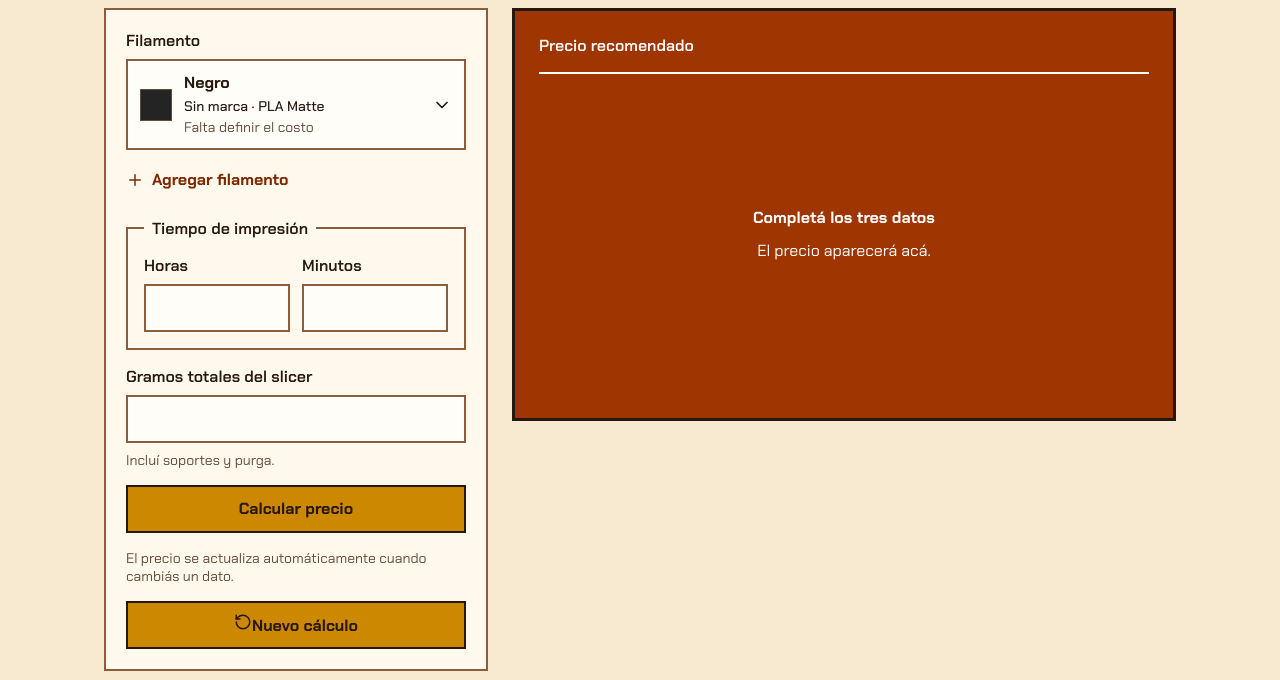
estados de la cotización rápida › prioriza precio, costo, ganancia y margen cuando el precio es utilizable
The width and height of the screenshot is (1280, 680).
expect the button with aria-label "Filamento" shows "PLA Matte": met, box [126,59,466,150]
Type "5" into the number field named "Horas de impresión" at (217, 308), box [144,284,290,332]
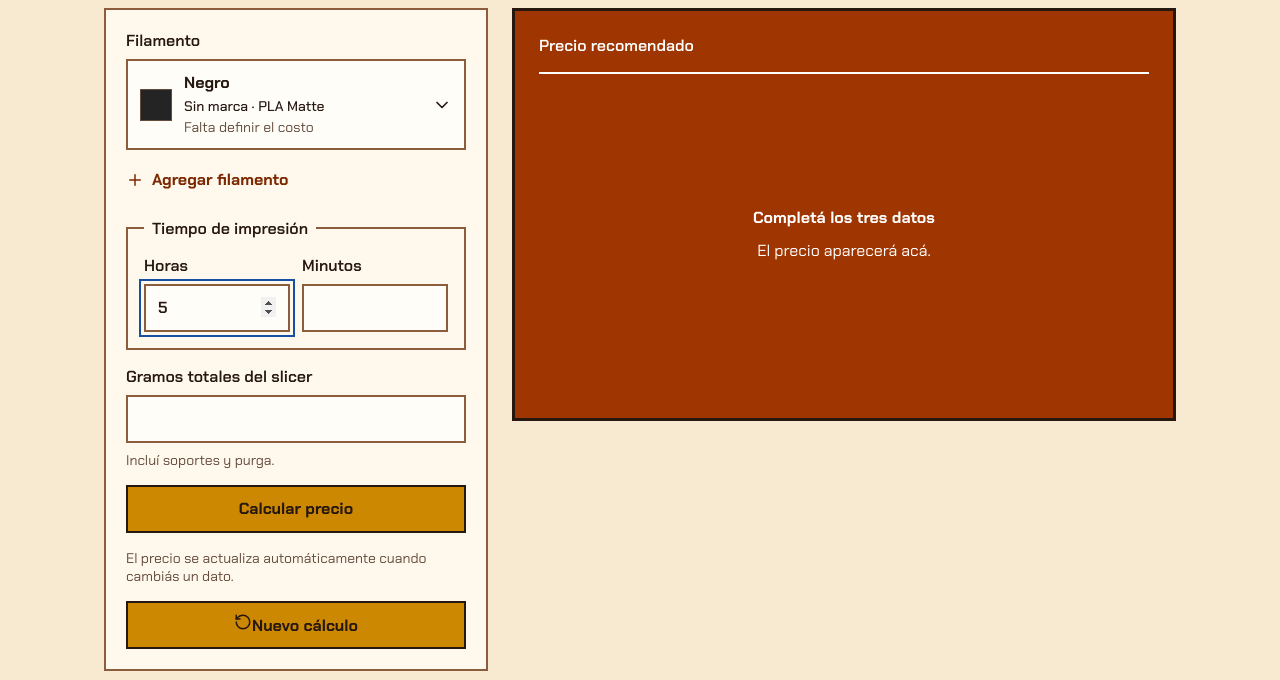
Type "24" into the number field named "Minutos de impresión" at (375, 308), box [302,284,448,332]
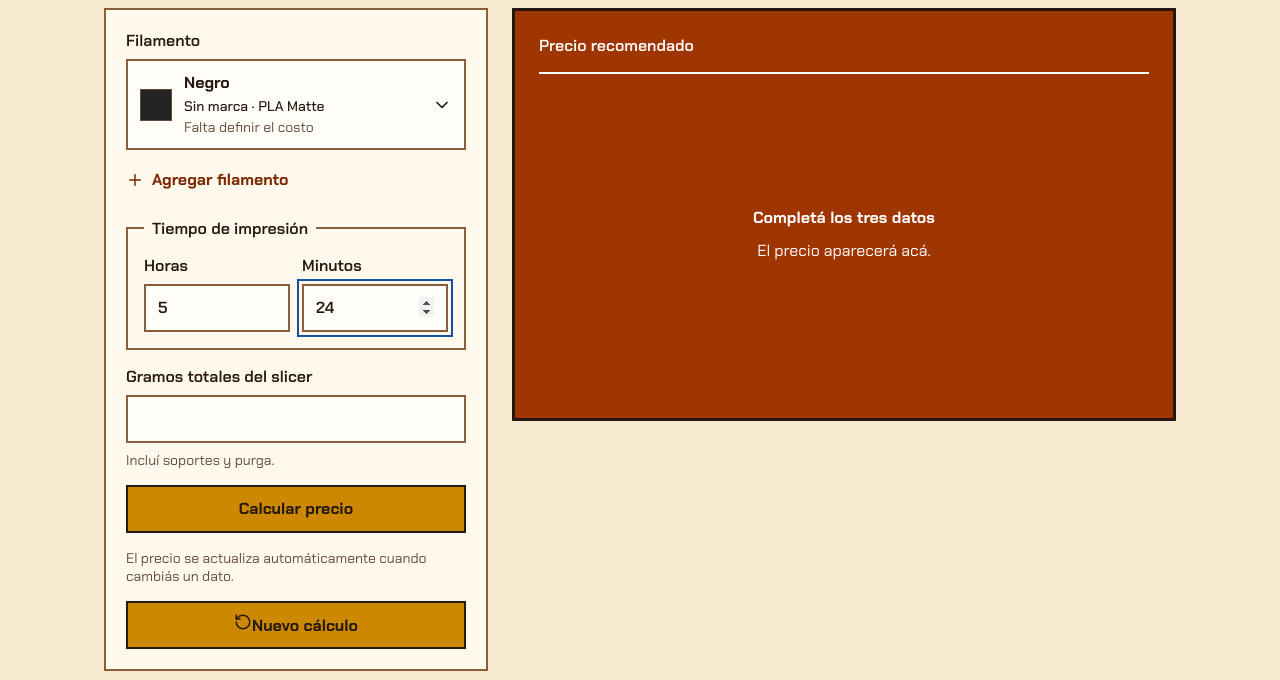
Type "142" into the number field labelled "Gramos totales del slicer" at (296, 419), box [126,395,466,443]
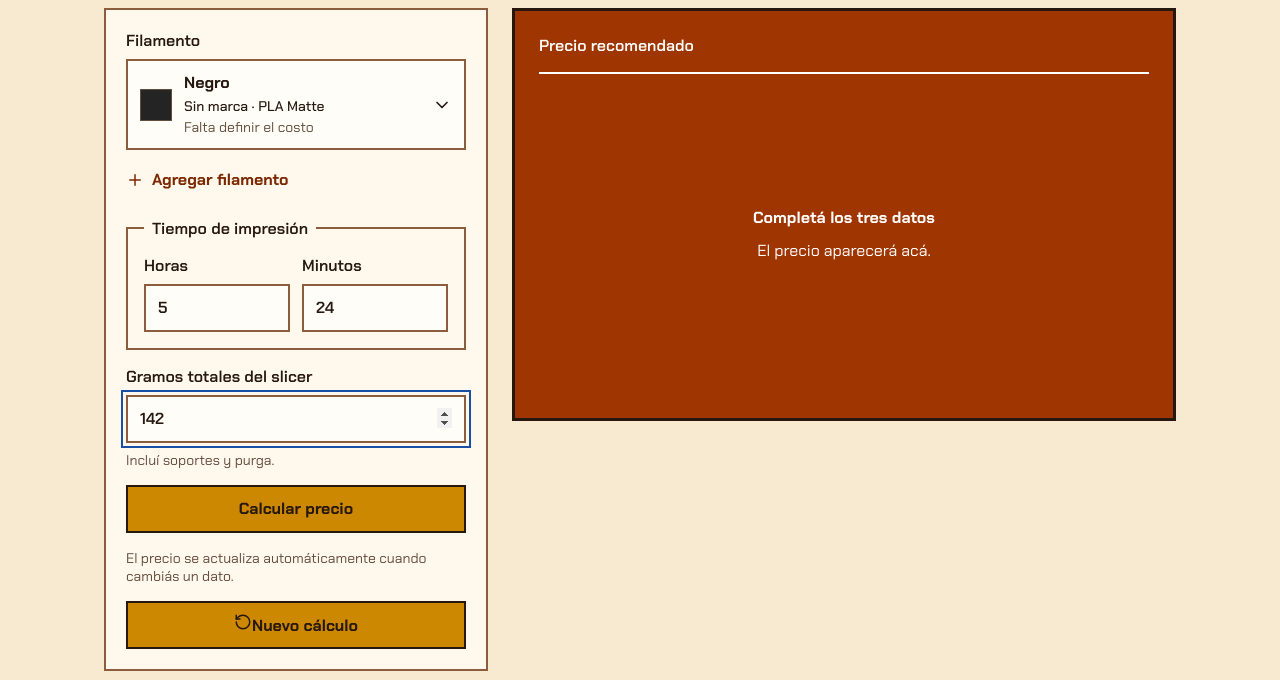
Click the button "Calcular precio" at (296, 509), box [126,485,466,533]
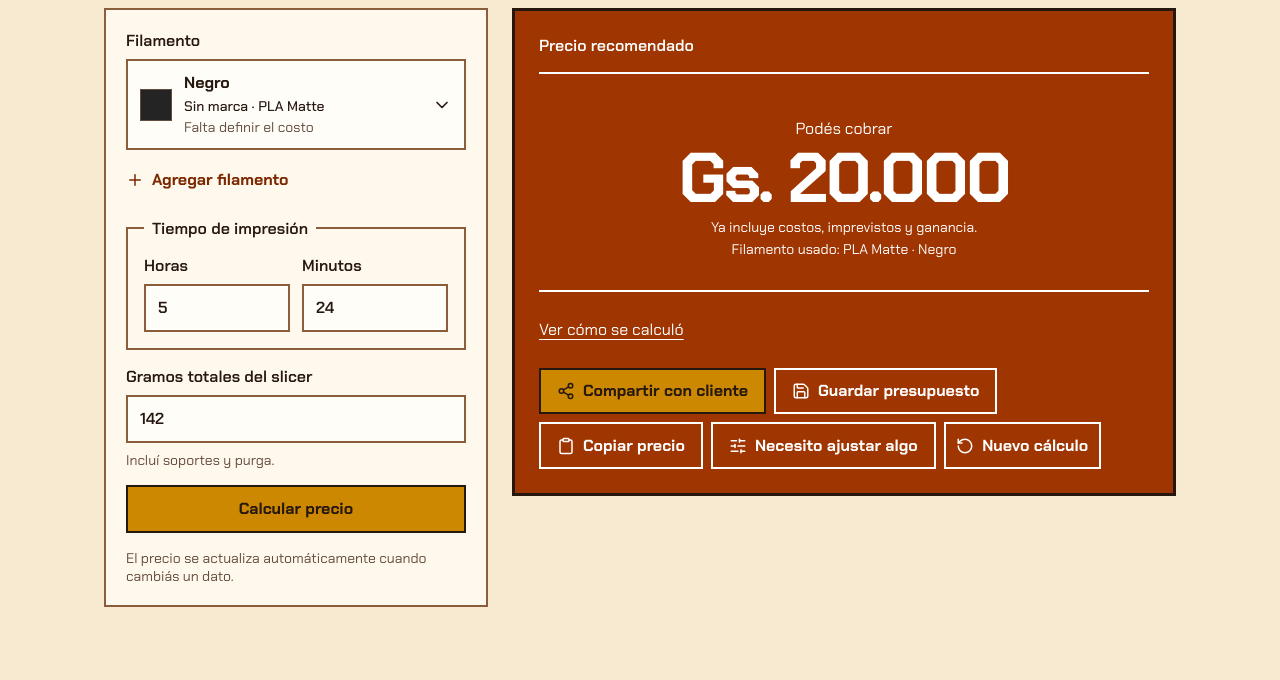
expect the text "Podés cobrar" is shown: met, box [796,118,892,139]
Click the heading "Ver cómo se calculó" at (611, 330), box [539,319,684,340]
(page scrolled)
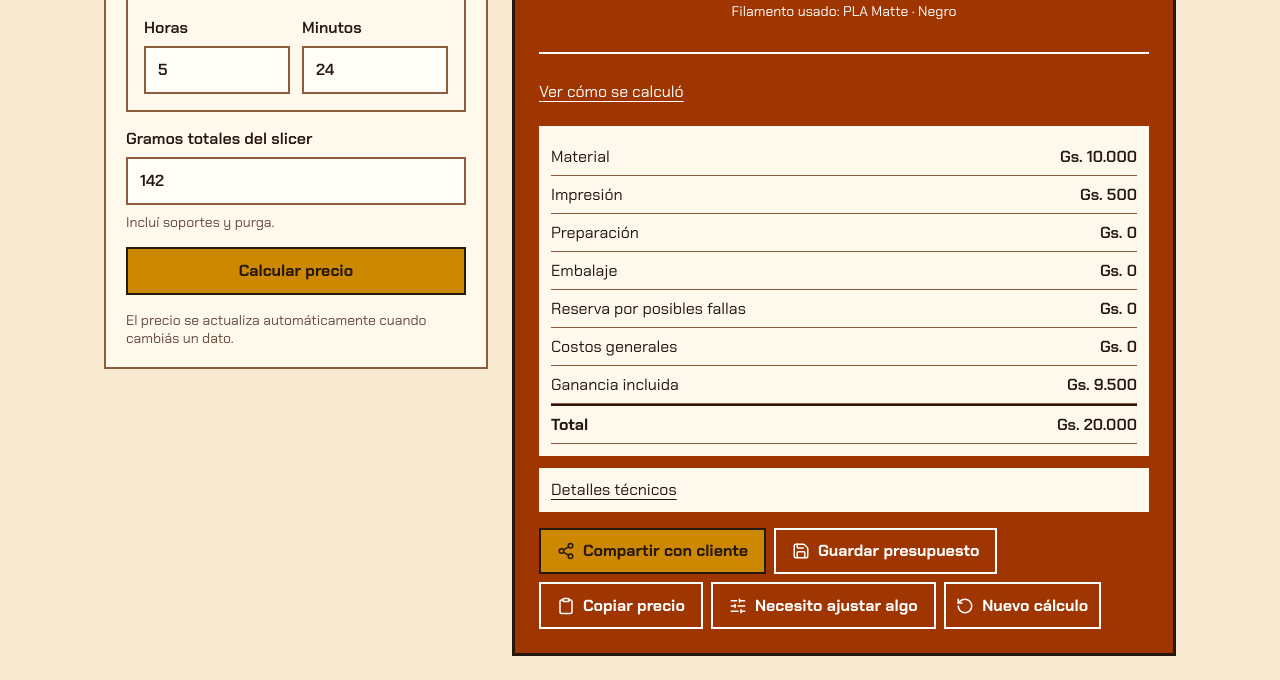
expect the text "Ganancia incluida" is shown: met, box [551,374,679,395]
expect the text "Total" is shown: met, box [551,414,588,435]
expect the heading "Detalles técnicos" is shown: met, box [551,479,677,500]
